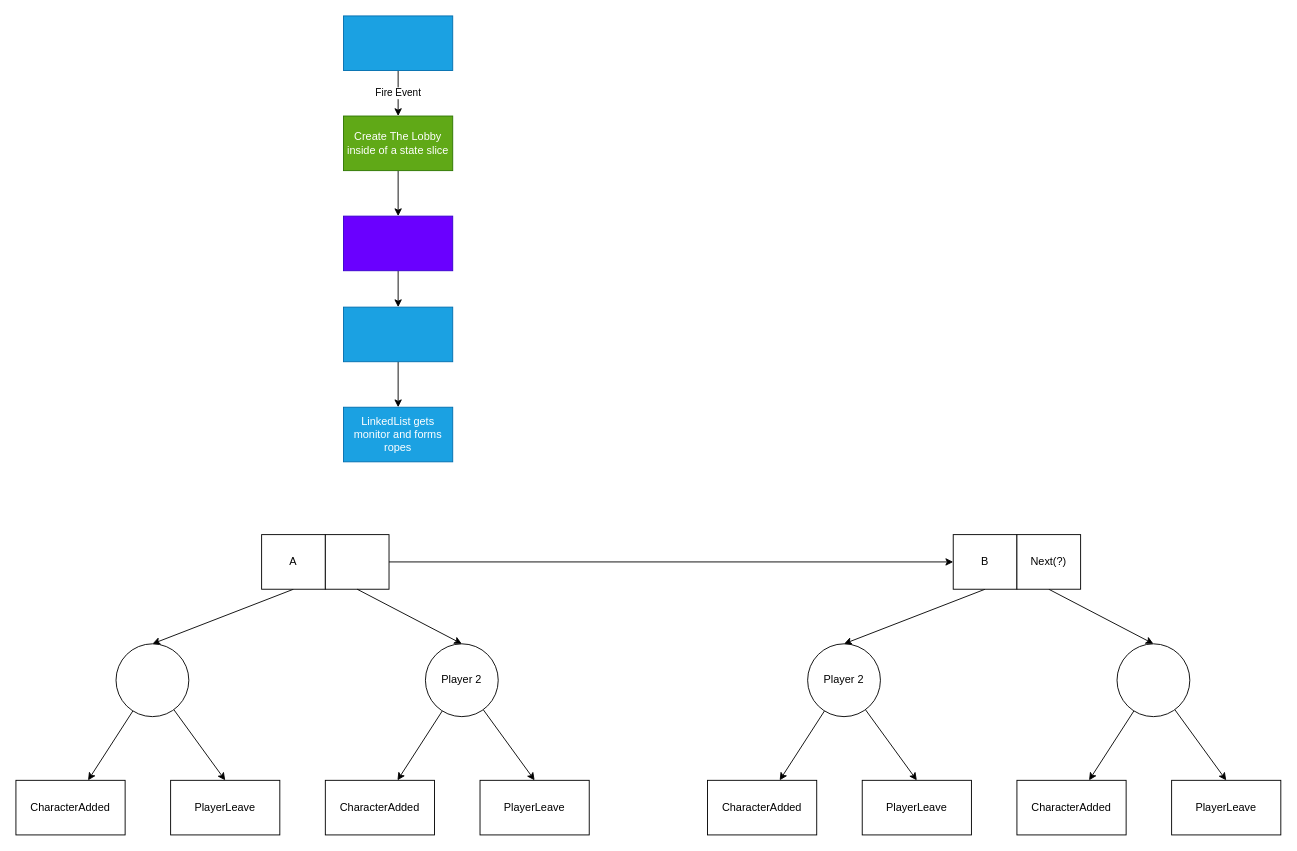
Image size: 1297x851. Some labels were removed from this diagram. Each missing label, with the centre of its shape:
"Client Initiates Lobby Creation" goes at point 398,43.
"Client Takes Lobby Array and Converts To LinkedList" goes at point 398,334.
"Next(B)" goes at point 356,561.
"Player 1" goes at point 152,680.
"Player 3" goes at point 1153,680.
"Replicates State To Client" goes at point 398,243.
